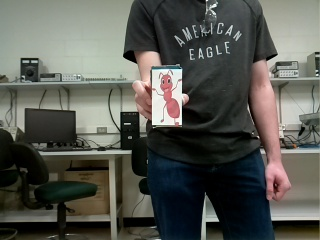Happy: (152, 69, 182, 125)
